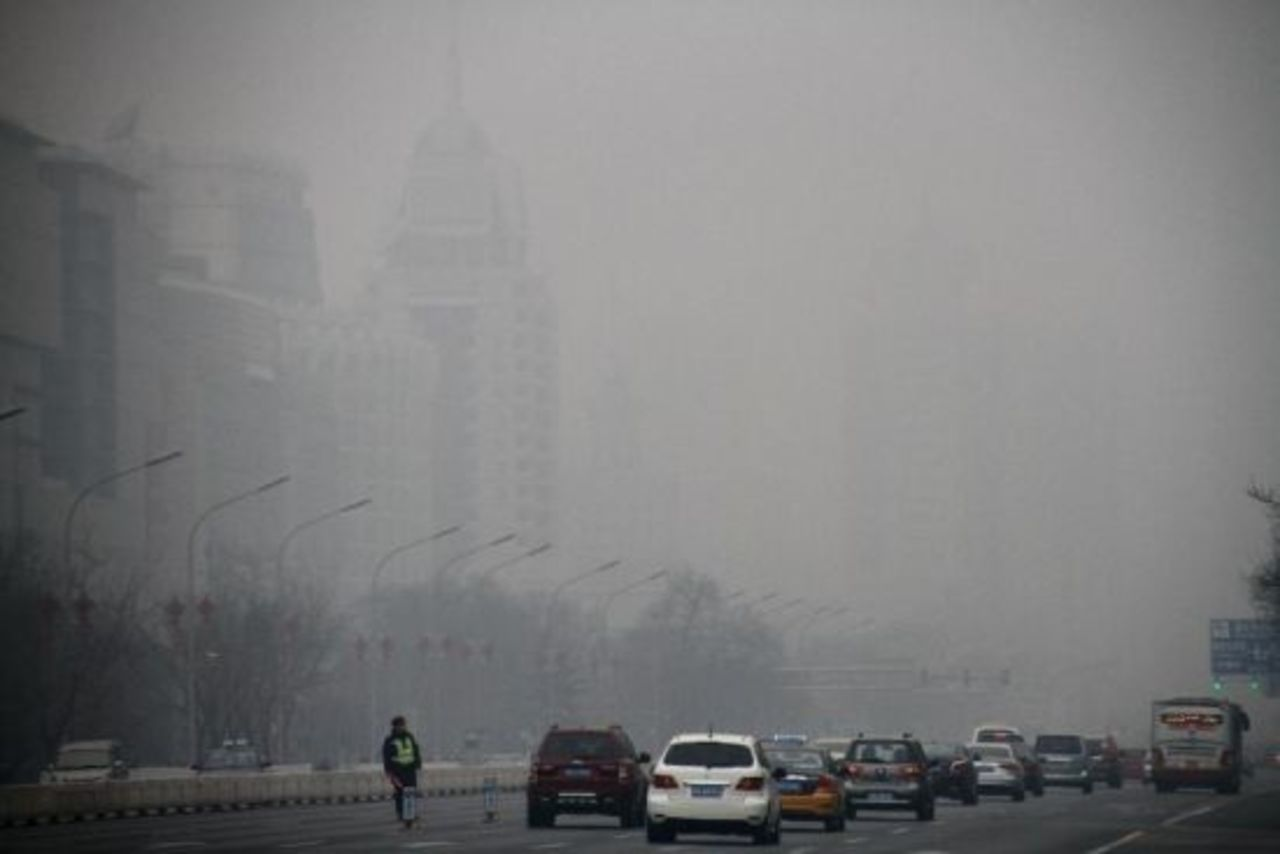bus: (1150, 698, 1251, 796)
car: (644, 734, 783, 847), (528, 725, 646, 827), (828, 736, 937, 817), (764, 745, 849, 830), (1032, 732, 1098, 792), (964, 743, 1032, 801), (48, 738, 132, 782), (925, 748, 976, 798), (196, 741, 269, 772), (1088, 732, 1124, 781)
person: (380, 714, 424, 826)
